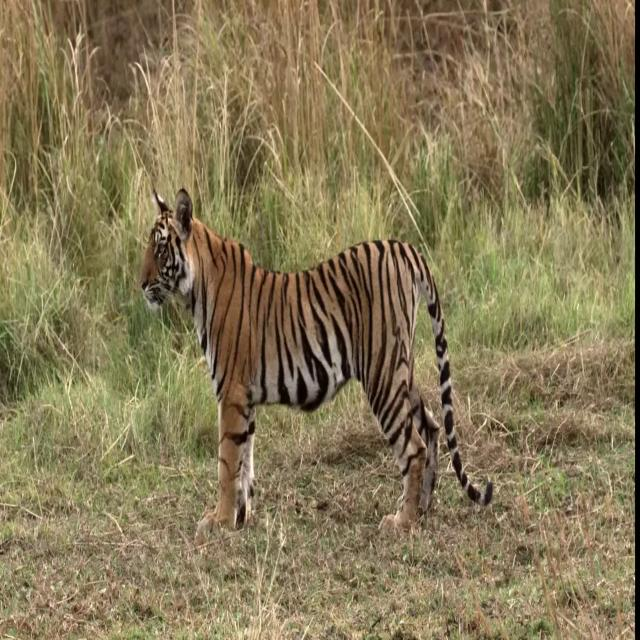tiger: (138, 188, 493, 546)
